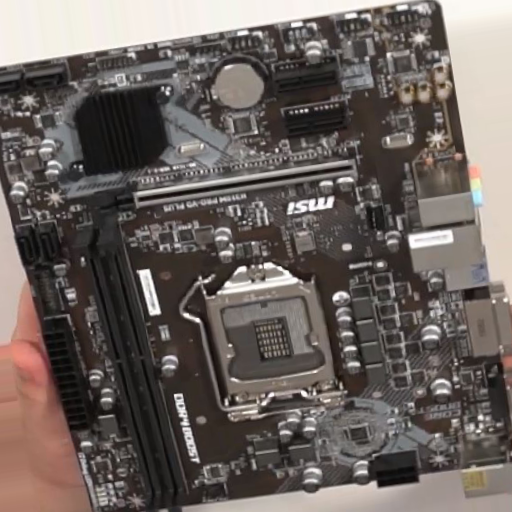CPU: (206, 266, 344, 421)
GPU: (96, 157, 362, 225)
MOTHERBOARD: (1, 6, 507, 512)
RAM: (76, 223, 185, 509)
